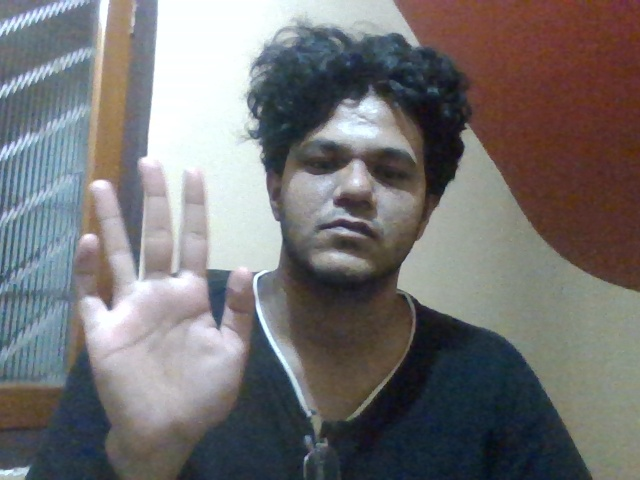hello: (46, 171, 261, 440)
